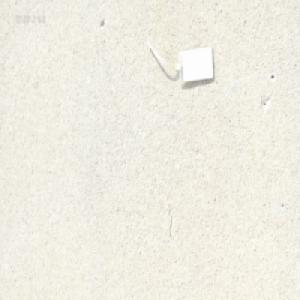LuggageTag: (143, 42, 216, 86)
